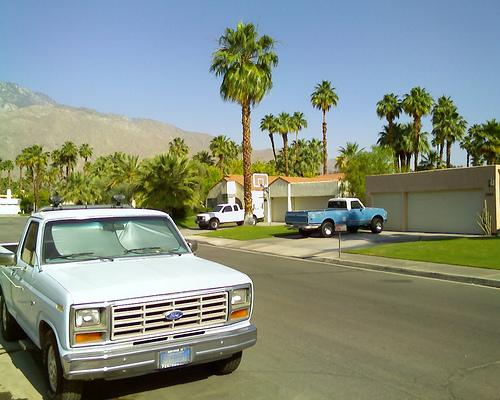truck: (0, 208, 258, 400)
